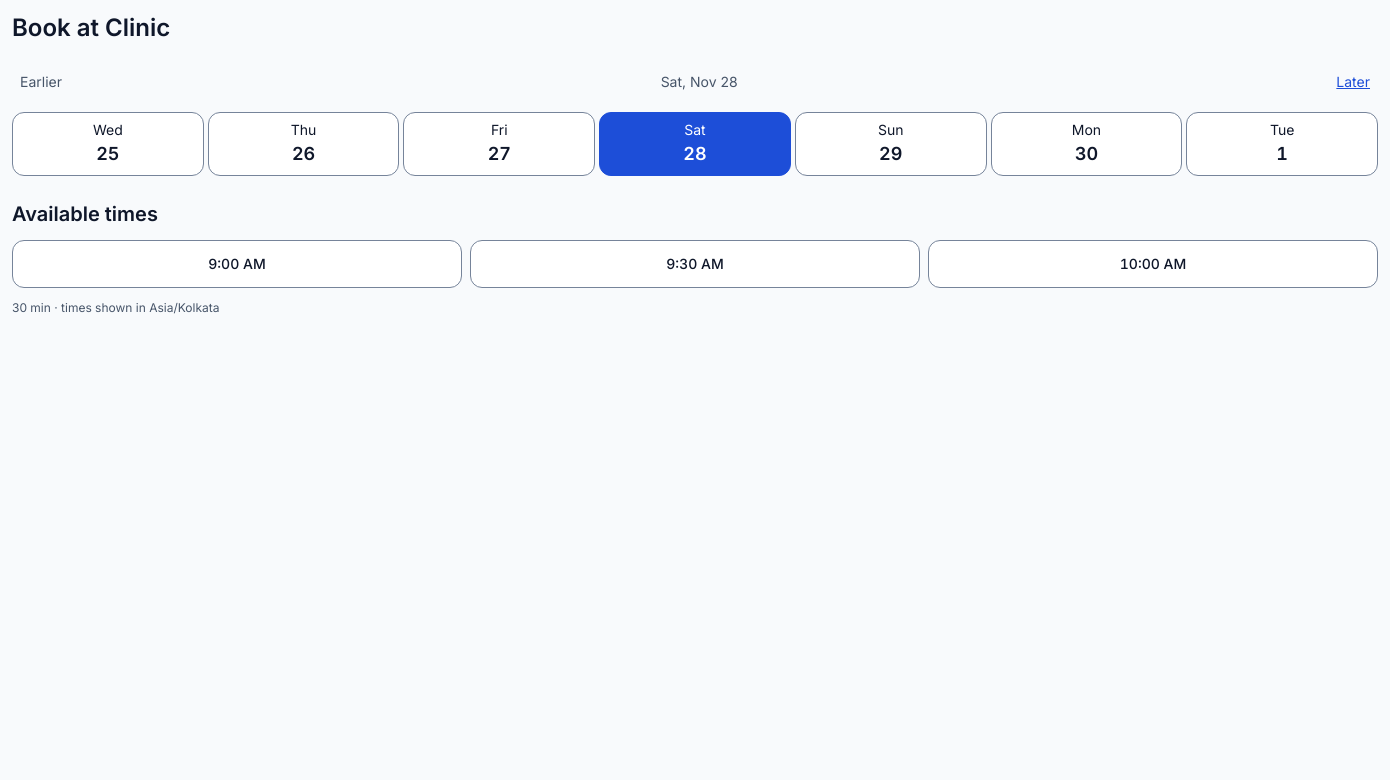
Test case: BookingFlow › waits out Retry-After on RATE_LIMITED before Confirm works again
The width and height of the screenshot is (1390, 780).
Click the radio button labelled "9:00 AM" at coordinates (237, 264), box [12,240,462,288]
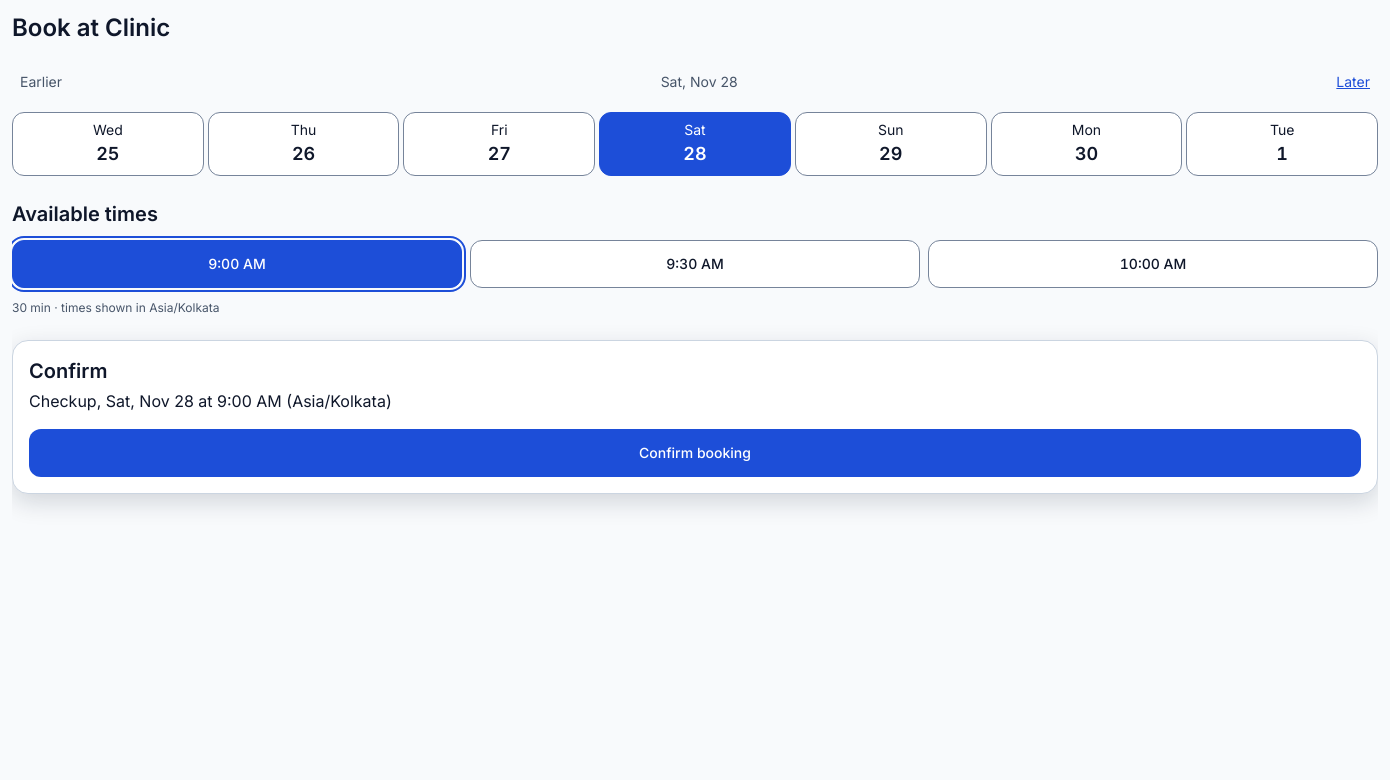
Click the button "Confirm booking" at coordinates (695, 453), box [29,429,1361,477]
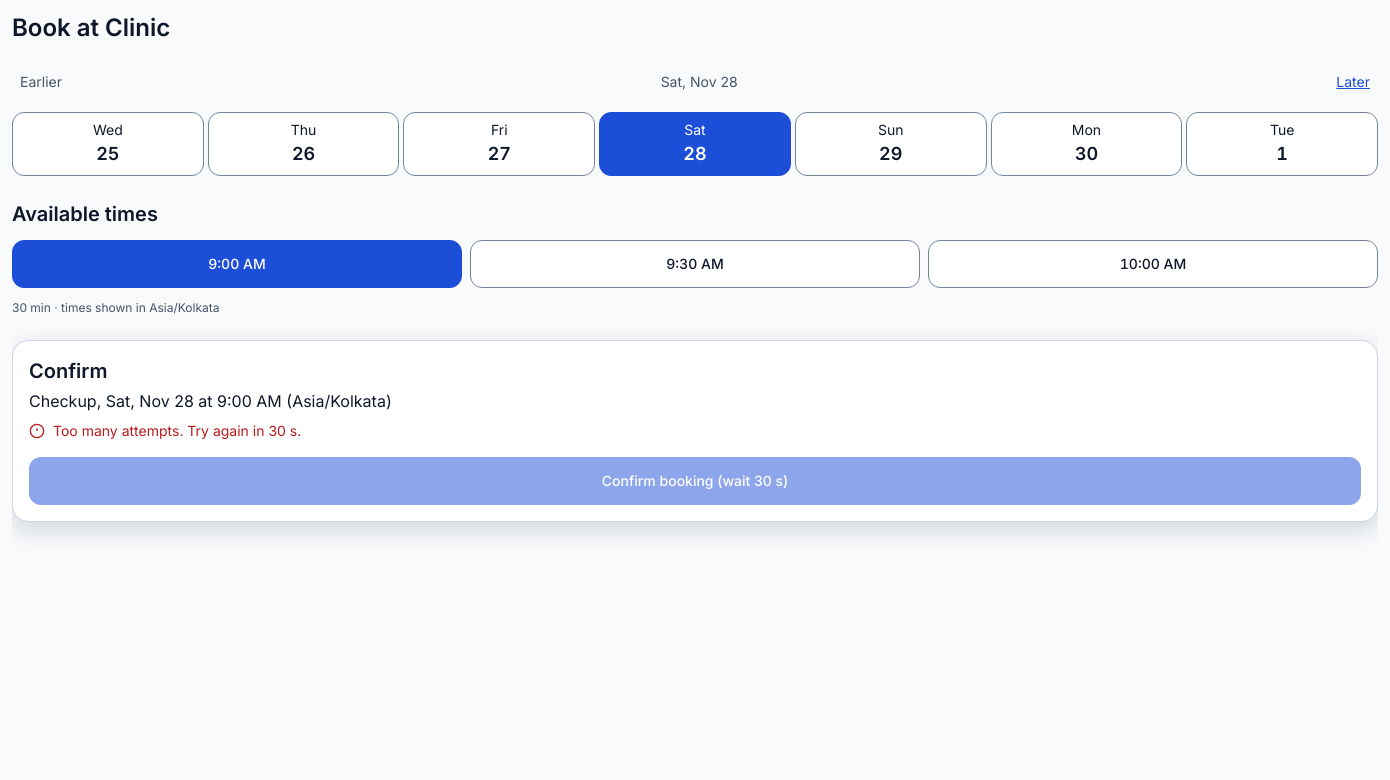
Expected: the button "Confirm booking (wait 30 s)" is disabled, [29,457,1361,505]
